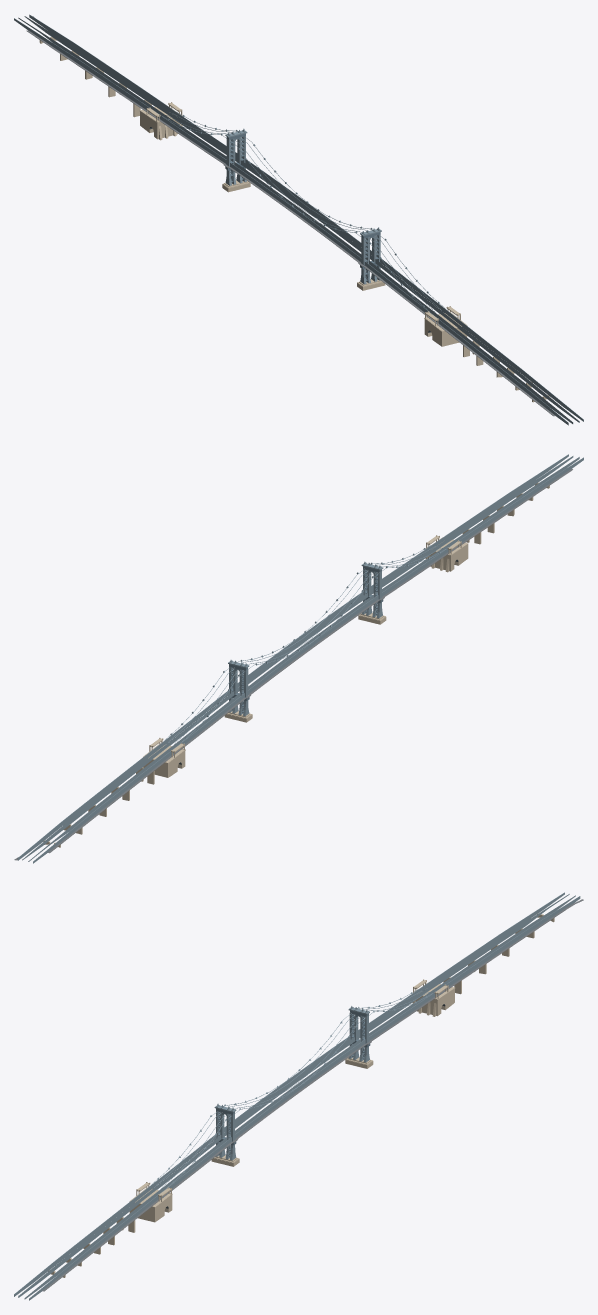
The model's file is nyc-manhattan-bridge.glb.
3 renders of one model, top to bottom at view 1: azimuth 30°, elevation 25°; view 2: azimuth 150°, elevation 25°; view 3: azimuth 330°, elevation 25°, orthographic.
Visible parts, largest first — view 1: Manhattan Bridge; view 2: Manhattan Bridge; view 3: Manhattan Bridge.
Boxes of the visible parts, box(x1,y1,x2,y2) form: Manhattan Bridge: box(14, 14, 583, 425); Manhattan Bridge: box(14, 454, 583, 863); Manhattan Bridge: box(14, 892, 583, 1300).
Size of the model in its own units: 49.8 by 104 by 1848.
